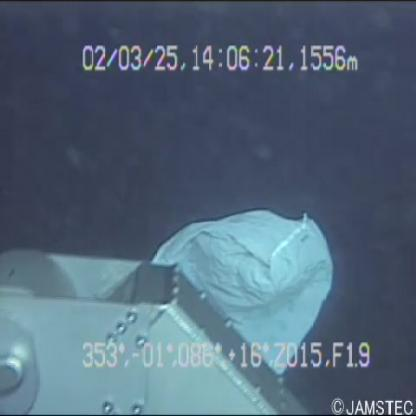Rov: (1, 230, 320, 412)
Rác: (138, 179, 340, 390)
